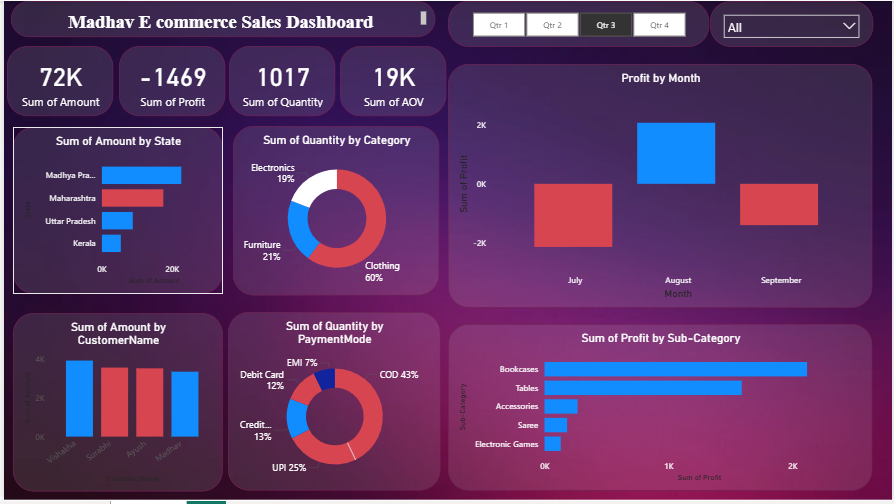

What the dashboard file says about the page in this screenshot:
{"tool":"powerbi","page":{"name":"Page 1","canvas":[1280,720],"ordinal":0},"visuals":[{"type":"textbox","box":[10.1,0,611.4,52.1],"z":0},{"type":"columnChart","title":"Profit by Month","fields":{"Category":["Orders.Order Date.Variation.Date Hierarchy.Month"],"Y":["Details.Profit"]},"box":[640,90.7,611.4,351.1],"z":1000},{"type":"barChart","fields":{"Category":["Details.Sub-Category"],"Y":["Details.Profit"]},"box":[640,465.3,611.4,240.2],"z":2000},{"type":"donutChart","fields":{"Category":["Details.PaymentMode","Details.Category"],"Y":["Details.Quantity"]},"box":[322.5,448.5,305.7,257],"z":3000},{"type":"donutChart","fields":{"Category":["Details.Category"],"Y":["Details.Quantity"]},"box":[329.2,179.7,297.3,243.6],"z":4000},{"type":"card","fields":{"Values":["Details.Amount"]},"box":[5,65.5,152.9,100.8],"z":5000},{"type":"card","fields":{"Values":["Details.Profit"]},"box":[166.3,65.5,152.9,100.8],"z":6000},{"type":"card","fields":{"Values":["Details.Quantity"]},"box":[324.2,65.5,152.9,100.8],"z":7000},{"type":"card","fields":{"Values":["Details.AOV"]},"box":[483.8,65.5,152.9,100.8],"z":8000},{"type":"barChart","fields":{"Category":["Orders.State"],"Y":["Details.Amount"]},"box":[13.4,181.4,302.4,240.2],"z":9000},{"type":"columnChart","fields":{"Y":["Details.Amount"],"Category":["Orders.CustomerName"]},"box":[13,449,302,257],"z":10000},{"type":"slicer","fields":{"Values":["Orders.Order Date.Variation.Date Hierarchy.Quarter"]},"box":[640,0,376.3,65.5],"z":11000},{"type":"slicer","fields":{"Values":["Orders.State"]},"box":[1016.3,0,235.2,65.5],"z":12000}]}

Visuals, with their boxes in screenshot pixels (x1, y1, x2, y2), scaled from the page's 1280x720 canvas onto the 894x504 screenshot:
textbox: l=7, t=0, r=434, b=36
"Profit by Month" columnChart: l=447, t=63, r=874, b=309
barChart - Details.Sub-Category x Details.Profit: l=447, t=326, r=874, b=494
donutChart - Details.PaymentMode x Details.Category: l=225, t=314, r=439, b=494
donutChart - Details.Category x Details.Quantity: l=230, t=126, r=438, b=296
card - Details.Amount: l=3, t=46, r=110, b=116
card - Details.Profit: l=116, t=46, r=223, b=116
card - Details.Quantity: l=226, t=46, r=333, b=116
card - Details.AOV: l=338, t=46, r=445, b=116
barChart - Orders.State x Details.Amount: l=9, t=127, r=221, b=295
columnChart - Details.Amount x Orders.CustomerName: l=9, t=314, r=220, b=494
slicer - Orders.Order Date.Variation.Date Hierarchy.Quarter: l=447, t=0, r=710, b=46
slicer - Orders.State: l=710, t=0, r=874, b=46
